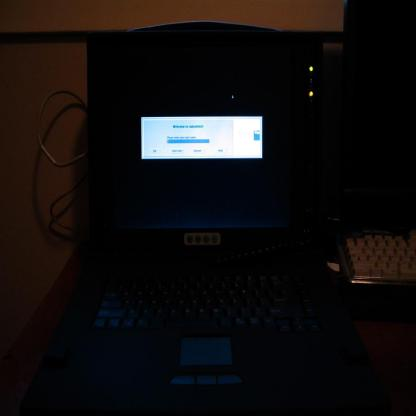board: (18, 28, 383, 412)
